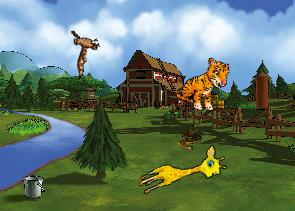eagle: (57, 21, 110, 79)
giraffe: (135, 142, 229, 205)
tiger: (173, 51, 233, 116)
